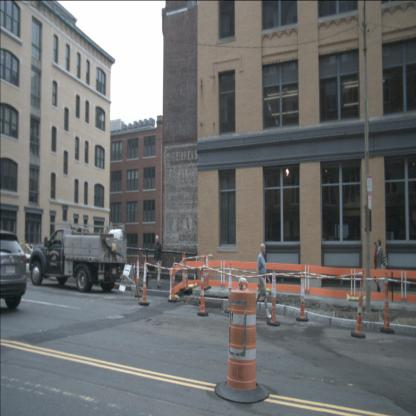human-pedestrian-adult: (252, 243, 273, 319), (376, 239, 387, 293), (152, 235, 162, 288), (373, 242, 382, 294)
movable_object-trafficcone: (214, 280, 270, 404), (351, 270, 366, 338), (380, 272, 395, 333), (267, 267, 281, 326), (296, 265, 309, 322), (224, 260, 235, 314), (198, 265, 208, 317), (139, 260, 150, 306), (168, 258, 179, 303), (134, 254, 143, 298), (184, 252, 193, 295), (204, 249, 212, 289), (208, 251, 216, 291), (202, 250, 209, 291), (181, 253, 187, 297), (22, 240, 28, 268), (132, 262, 136, 284)
vehicle-car: (29, 222, 127, 292), (0, 230, 27, 309)
